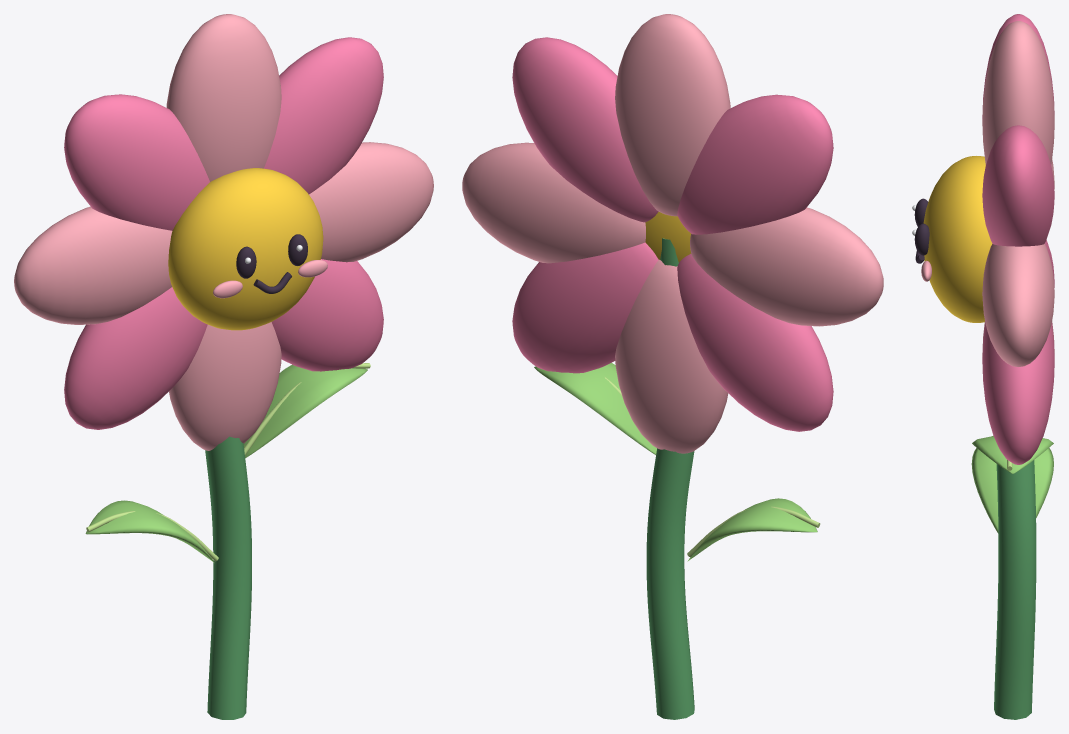
The model's file is flower.glb.
The picture shows the model from 3 angles, left to right: view 1: azimuth 30°, elevation 25°; view 2: azimuth 150°, elevation 25°; view 3: azimuth 270°, elevation 25°; orthographic projection.
Parts seen in each view (by area): view 1: CMP_HD_Garden_Flower_CMP_HD_blush, CMP_HD_Garden_Flower_CMP_HD_pink, CMP_HD_Garden_Flower_CMP_HD_yellow, CMP_HD_Garden_Flower_CMP_HD_green, CMP_HD_Garden_Flower_CMP_HD_leaf, CMP_HD_Garden_Flower_CMP_HD_dark, CMP_HD_Garden_Flower_CMP_HD_vein; view 2: CMP_HD_Garden_Flower_CMP_HD_pink, CMP_HD_Garden_Flower_CMP_HD_blush, CMP_HD_Garden_Flower_CMP_HD_green, CMP_HD_Garden_Flower_CMP_HD_leaf, CMP_HD_Garden_Flower_CMP_HD_yellow; view 3: CMP_HD_Garden_Flower_CMP_HD_blush, CMP_HD_Garden_Flower_CMP_HD_pink, CMP_HD_Garden_Flower_CMP_HD_green, CMP_HD_Garden_Flower_CMP_HD_yellow, CMP_HD_Garden_Flower_CMP_HD_leaf, CMP_HD_Garden_Flower_CMP_HD_dark.
Part boxes in pixels (<box>): CMP_HD_Garden_Flower_CMP_HD_blush: <box>14,14,433,450</box>; CMP_HD_Garden_Flower_CMP_HD_pink: <box>64,37,383,429</box>; CMP_HD_Garden_Flower_CMP_HD_yellow: <box>168,168,323,330</box>; CMP_HD_Garden_Flower_CMP_HD_green: <box>205,436,251,719</box>; CMP_HD_Garden_Flower_CMP_HD_leaf: <box>85,364,367,562</box>; CMP_HD_Garden_Flower_CMP_HD_dark: <box>236,234,307,293</box>; CMP_HD_Garden_Flower_CMP_HD_vein: <box>86,363,370,561</box>; CMP_HD_Garden_Flower_CMP_HD_pink: <box>512,37,833,431</box>; CMP_HD_Garden_Flower_CMP_HD_blush: <box>462,14,883,453</box>; CMP_HD_Garden_Flower_CMP_HD_green: <box>646,238,694,719</box>; CMP_HD_Garden_Flower_CMP_HD_leaf: <box>534,363,817,561</box>; CMP_HD_Garden_Flower_CMP_HD_yellow: <box>645,212,691,262</box>; CMP_HD_Garden_Flower_CMP_HD_blush: <box>921,21,1054,366</box>; CMP_HD_Garden_Flower_CMP_HD_pink: <box>982,14,1054,464</box>; CMP_HD_Garden_Flower_CMP_HD_green: <box>994,460,1036,719</box>; CMP_HD_Garden_Flower_CMP_HD_yellow: <box>923,156,992,322</box>; CMP_HD_Garden_Flower_CMP_HD_leaf: <box>971,436,1053,533</box>; CMP_HD_Garden_Flower_CMP_HD_dark: <box>914,198,929,263</box>.
Size of the model in its own units: 2.1 by 3.35 by 0.63.
